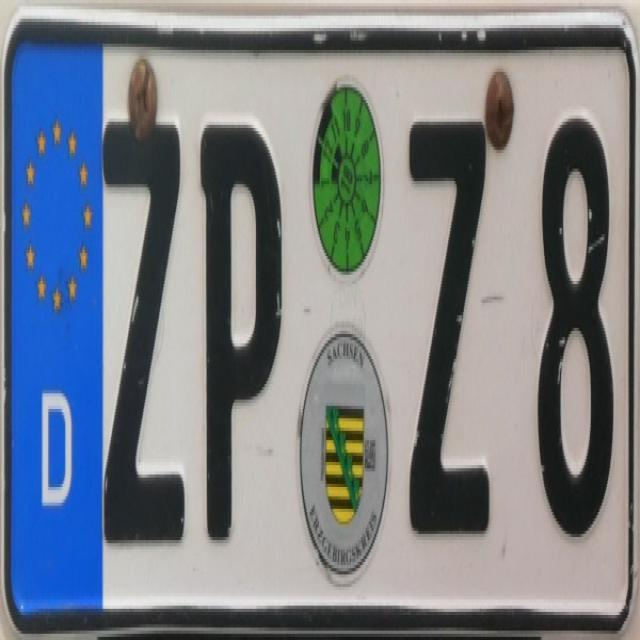license-plates: (4, 9, 638, 634)
